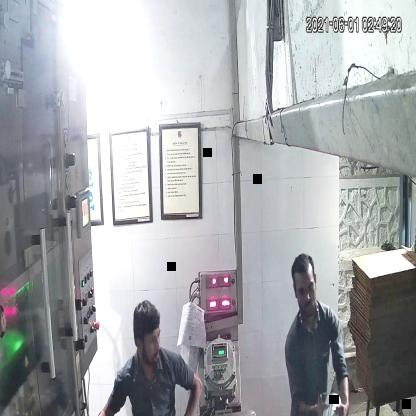no_goggles: (131, 329, 167, 354), (290, 279, 320, 301)
